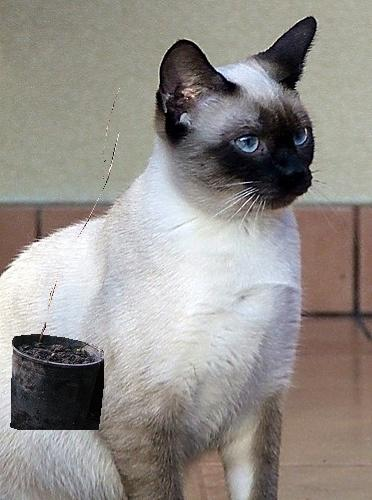tampered: (11, 81, 122, 430)
